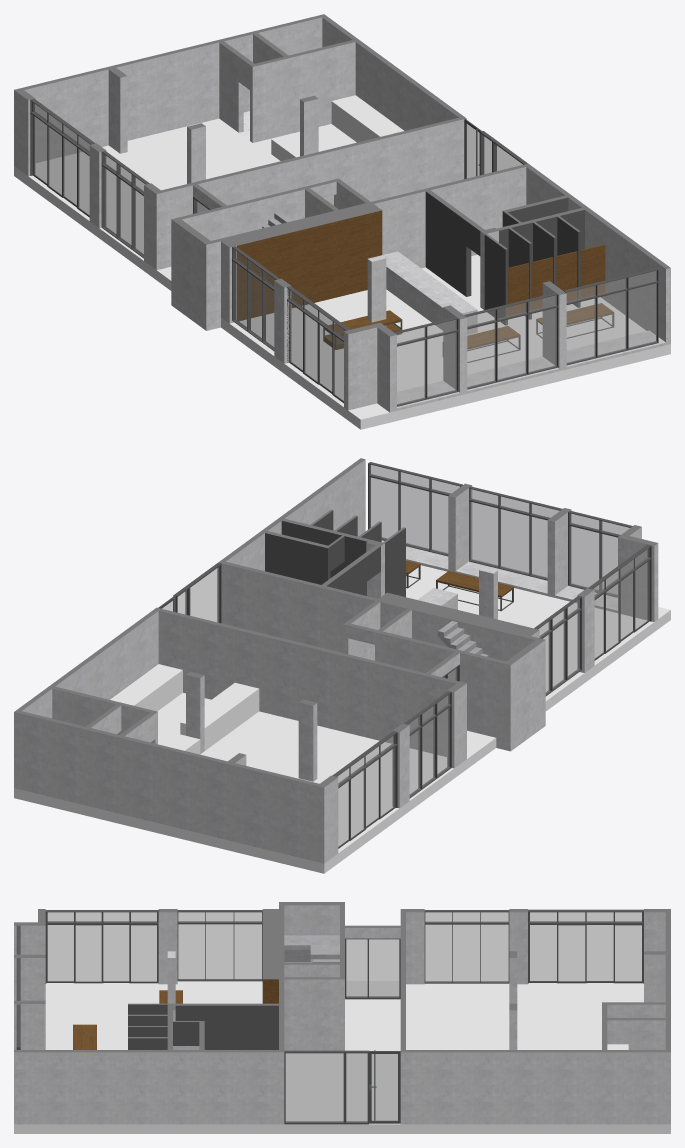
File: Unidad B.glb
The picture shows the model from 3 angles, top to bottom: view 1: azimuth 30°, elevation 25°; view 2: azimuth 150°, elevation 25°; view 3: azimuth 270°, elevation 25°; orthographic projection. The views are drawn at different scales.
Parts seen in each view (by area): view 1: 34669, 34671, 34668, Component#31 (×4), 32752, 34712, 34721, 34667, 34353 (×2), Component#32, 32749, 34720 (+8 smaller); view 2: 34669, 34668, 34671, Component#31 (×4), 34667, 32752, 34353 (×2), Component#32, 34721, 34718, 34720, 34354 (×2) (+4 smaller); view 3: 34671, 34669, 34668, Component#31 (×2), 34353 (×2), 34667, 32752, 34082, 33253, 34721, 34351 (×2), 34086 (+12 smaller).
Part boxes in pixels (bbox=[...]): 34669: bbox=[14, 14, 466, 270]; 34671: bbox=[14, 111, 670, 429]; 34668: bbox=[218, 163, 670, 412]; Component#31 (×4): bbox=[101, 151, 658, 389]; 32752: bbox=[425, 190, 584, 325]; 34712: bbox=[228, 204, 382, 321]; 34721: bbox=[219, 33, 355, 142]; 34667: bbox=[171, 178, 370, 330]; 34353 (×2): bbox=[34, 116, 343, 400]; Component#32: bbox=[394, 317, 458, 406]; 32749: bbox=[382, 251, 477, 334]; 34720: bbox=[331, 95, 403, 142]; 34669: bbox=[14, 607, 466, 863]; 34668: bbox=[218, 458, 658, 672]; 34671: bbox=[14, 565, 670, 873]; Component#31 (×4): bbox=[368, 462, 581, 798]; 34667: bbox=[343, 601, 545, 751]; 32752: bbox=[265, 509, 405, 596]; 34353 (×2): bbox=[338, 561, 648, 846]; Component#32: bbox=[568, 510, 632, 597]; 34721: bbox=[52, 686, 157, 744]; 34718: bbox=[180, 682, 259, 750]; 34720: bbox=[110, 664, 182, 711]; 34354 (×2): bbox=[332, 544, 651, 787]; 34671: bbox=[14, 981, 670, 1133]; 34669: bbox=[400, 909, 670, 1124]; 34668: bbox=[14, 909, 284, 1124]; Component#31 (×2): bbox=[177, 910, 509, 983]; 34353 (×2): bbox=[47, 925, 641, 981]; 34667: bbox=[279, 902, 400, 1050]; 32752: bbox=[128, 1003, 278, 1049]; 34082: bbox=[285, 1053, 343, 1122]; 33253: bbox=[346, 939, 399, 997]; 34721: bbox=[602, 1002, 665, 1049]; 34351 (×2): bbox=[47, 912, 641, 922]; 34086: bbox=[371, 1054, 397, 1120].
Bounding box in the file's own units: 1.34 × 0.34 × 2.48.
891 materials, 339 textured.
